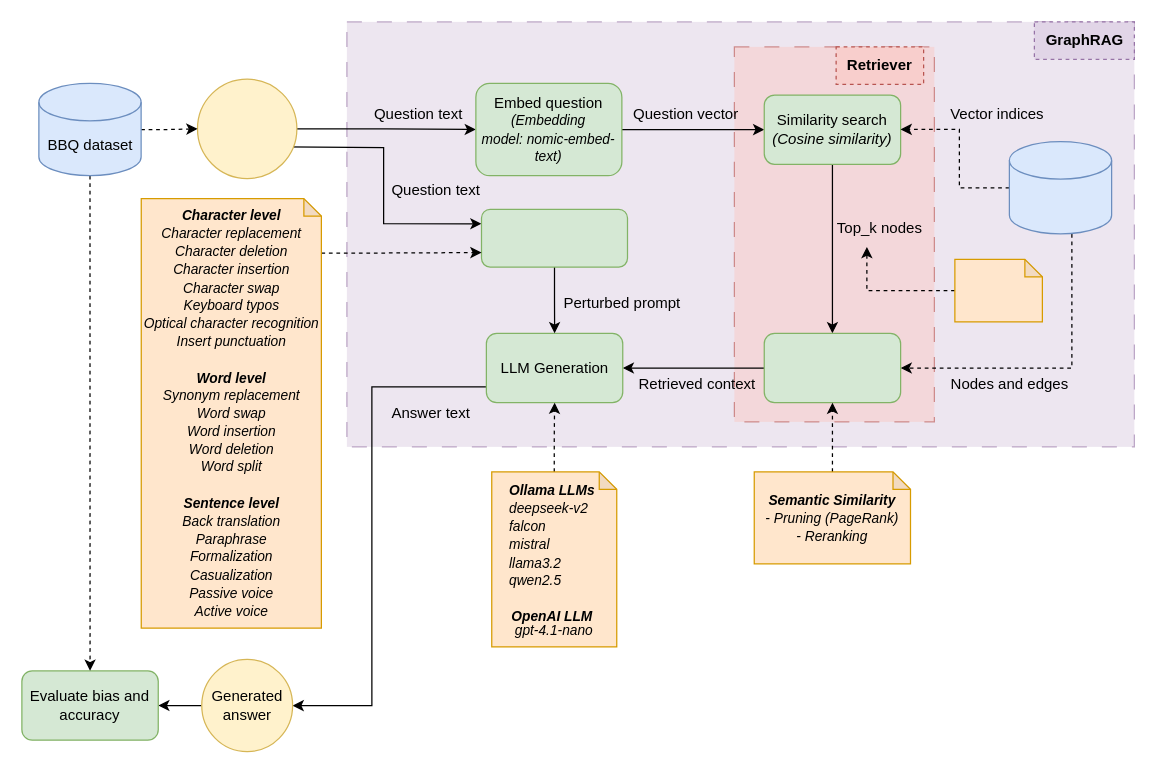
Some shapes in this 1156 by 774 pixel diagram are drawn without their labels. Each missing label, with the box of its shape:
Fetch context around nodes: (763, 332, 901, 403)
K-values [1,3,5,10]: (954, 258, 1042, 322)
Knowledge graph (Neo4j): (1008, 140, 1112, 234)
Prompt Perturbation: (480, 208, 628, 267)
User Question: (196, 78, 297, 178)
